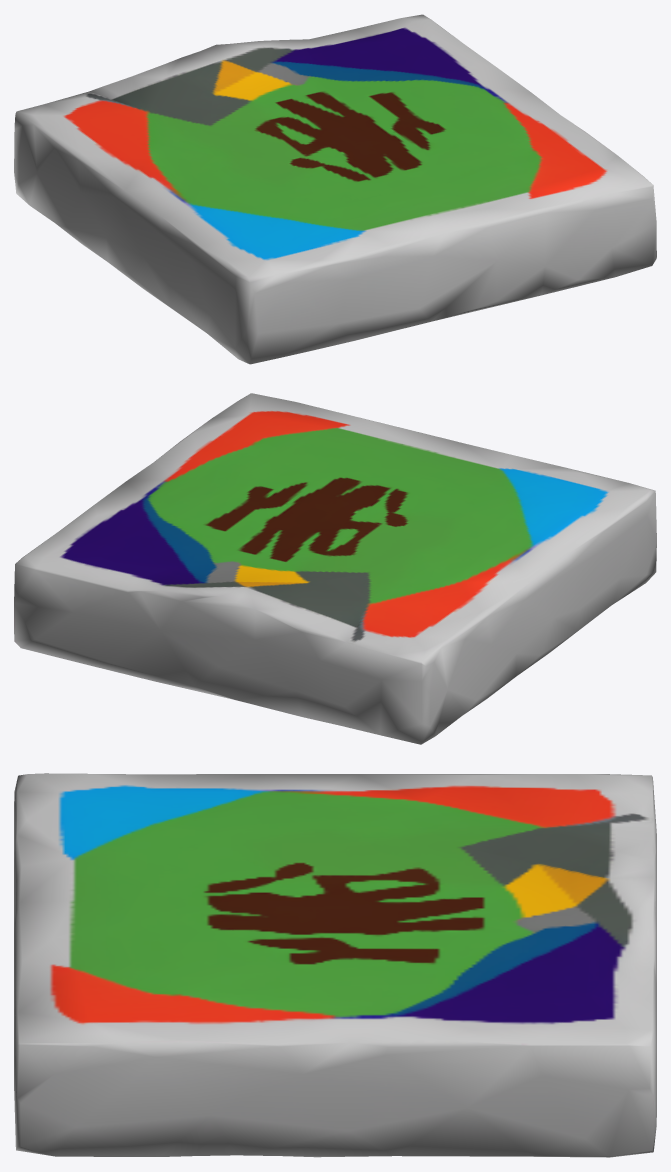
File: ceiling-tile.glb
The picture shows the model from 3 angles, top to bottom: view 1: azimuth 30°, elevation 25°; view 2: azimuth 150°, elevation 25°; view 3: azimuth 270°, elevation 25°; orthographic projection. The views are drawn at different scales.
Parts seen in each view (by area): view 1: geometry_0.001; view 2: geometry_0.001; view 3: geometry_0.001.
Boxes of the visible parts, x1,y1,x2,y2 form: geometry_0.001: (14,14,656,364); geometry_0.001: (14,393,656,744); geometry_0.001: (14,773,656,1157).
Size of the model in its own units: 1 by 0.2381 by 0.9977.
Materials: 1 (1 with a texture image).
